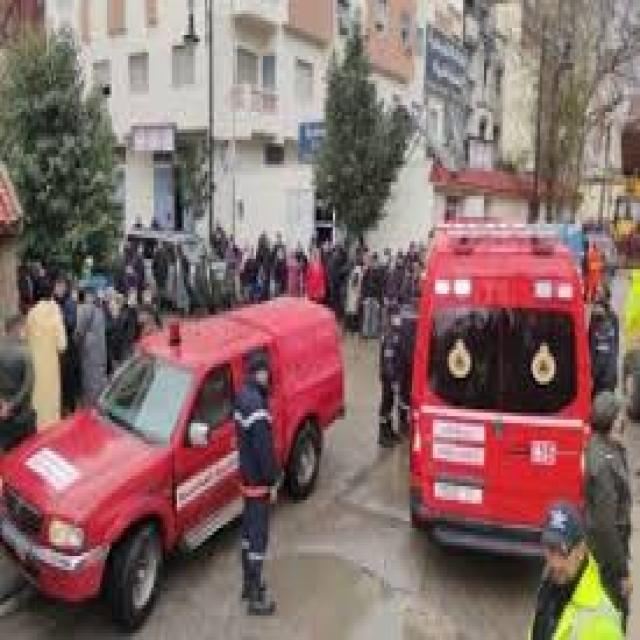ambulance: (7, 297, 339, 624), (414, 220, 587, 544)
